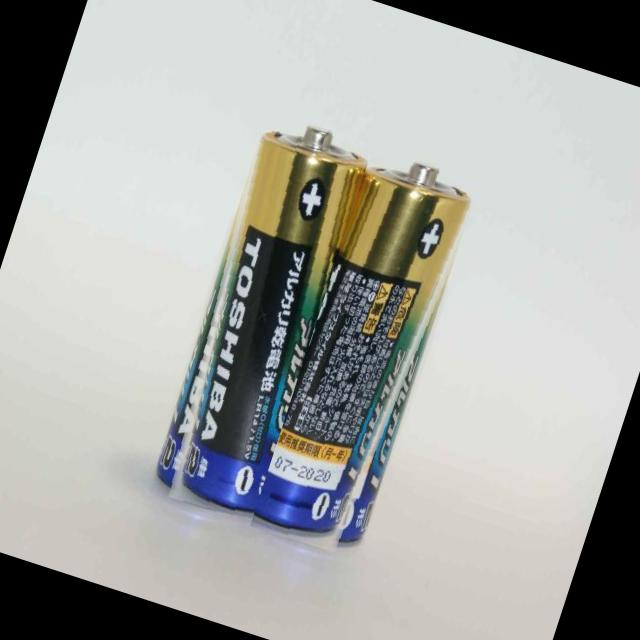Hazard: (141, 108, 378, 525), (250, 146, 486, 564)
